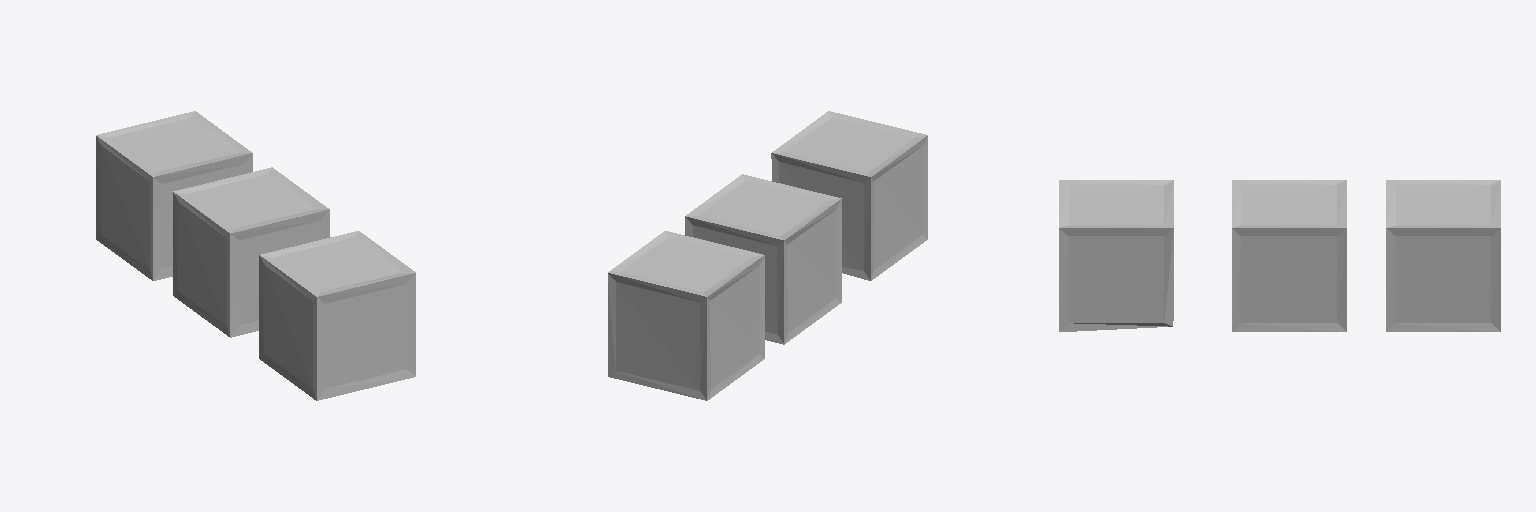
File: caja_LoD_2.obj
The picture shows the model from 3 angles: view 1: azimuth 30°, elevation 25°; view 2: azimuth 150°, elevation 25°; view 3: azimuth 270°, elevation 25°; orthographic projection.
Parts seen in each view (by area): view 1: Boxes; view 2: Boxes; view 3: Boxes.
Boxes of the visible parts, x1=… form: Boxes: x1=96, y1=111, x2=415, y2=400; Boxes: x1=608, y1=111, x2=927, y2=400; Boxes: x1=1059, y1=180, x2=1500, y2=331.
Size of the model in its own units: 5.85 by 5.85 by 22.5.